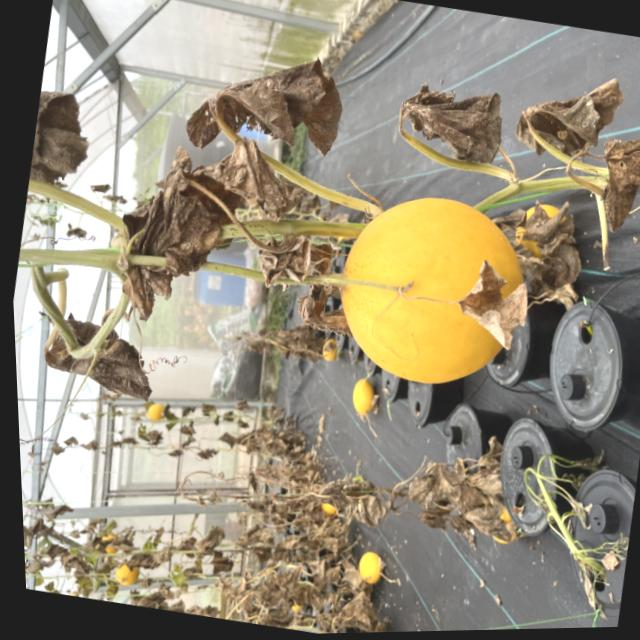bacterial wilt: (93, 136, 242, 332), (177, 27, 360, 168), (381, 50, 527, 183), (19, 69, 102, 210), (511, 59, 623, 158), (446, 261, 547, 355), (580, 108, 640, 250)
